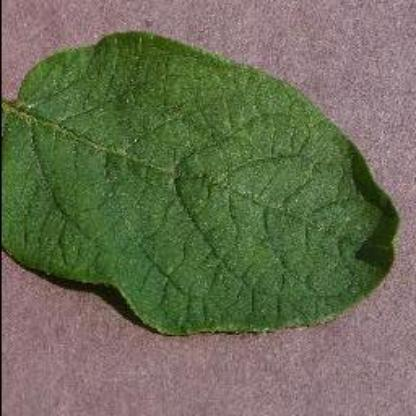Healthy-plant: (2, 25, 408, 348)
